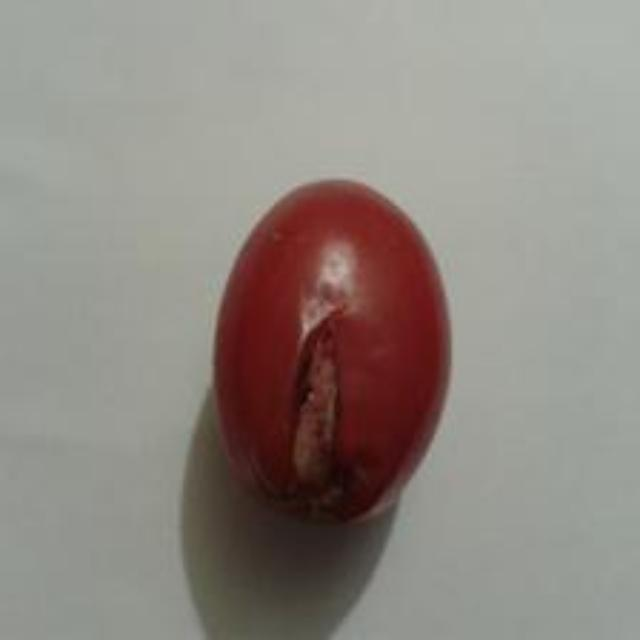defect: (205, 175, 460, 529)
